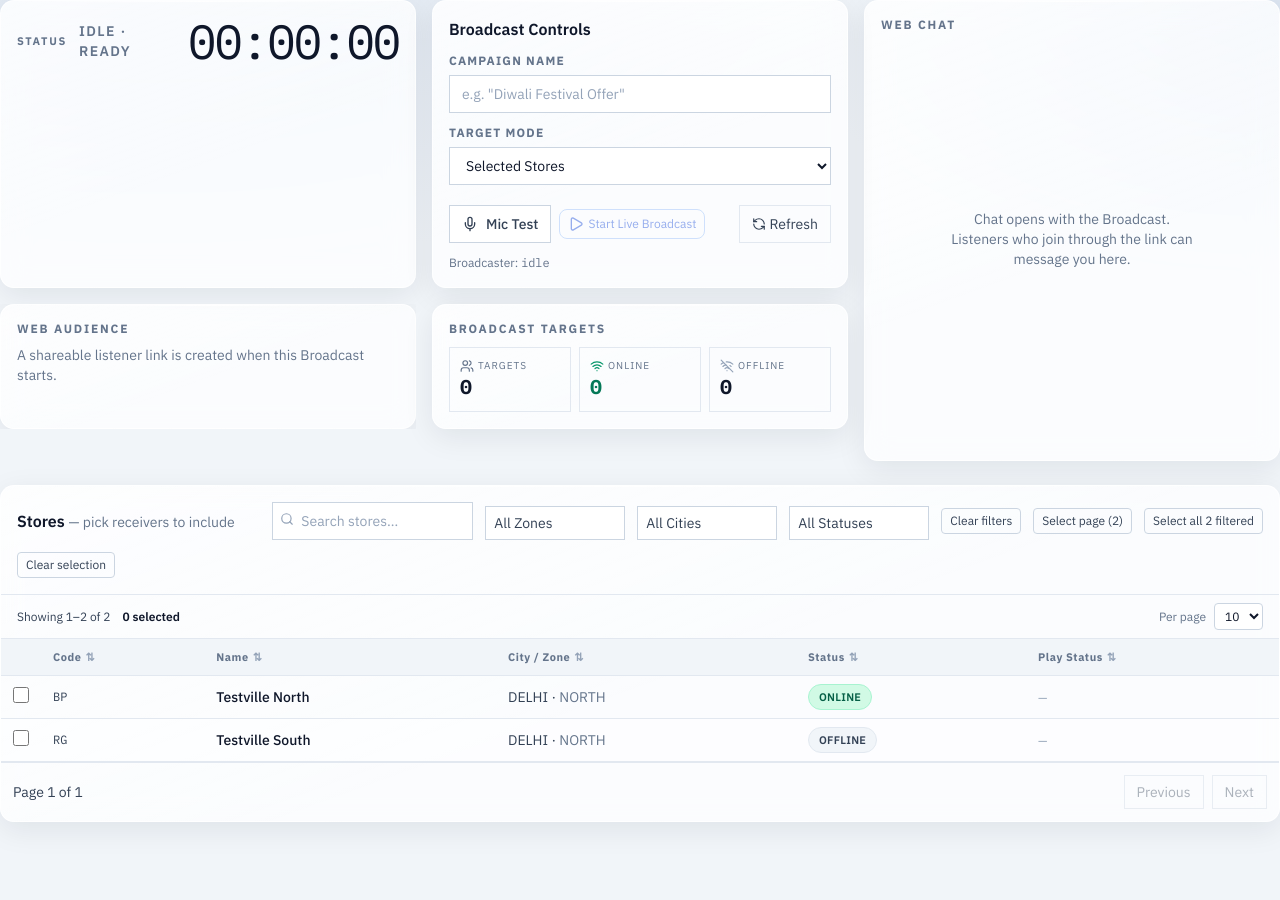
choosing Only With Link hides the Store table
Expected: the field with test id "stores-search" is shown, [272,502,473,540]
Select "Only With Link" in the dropdown with test id "target-mode-select" at (640, 166), box [449,147,831,185]
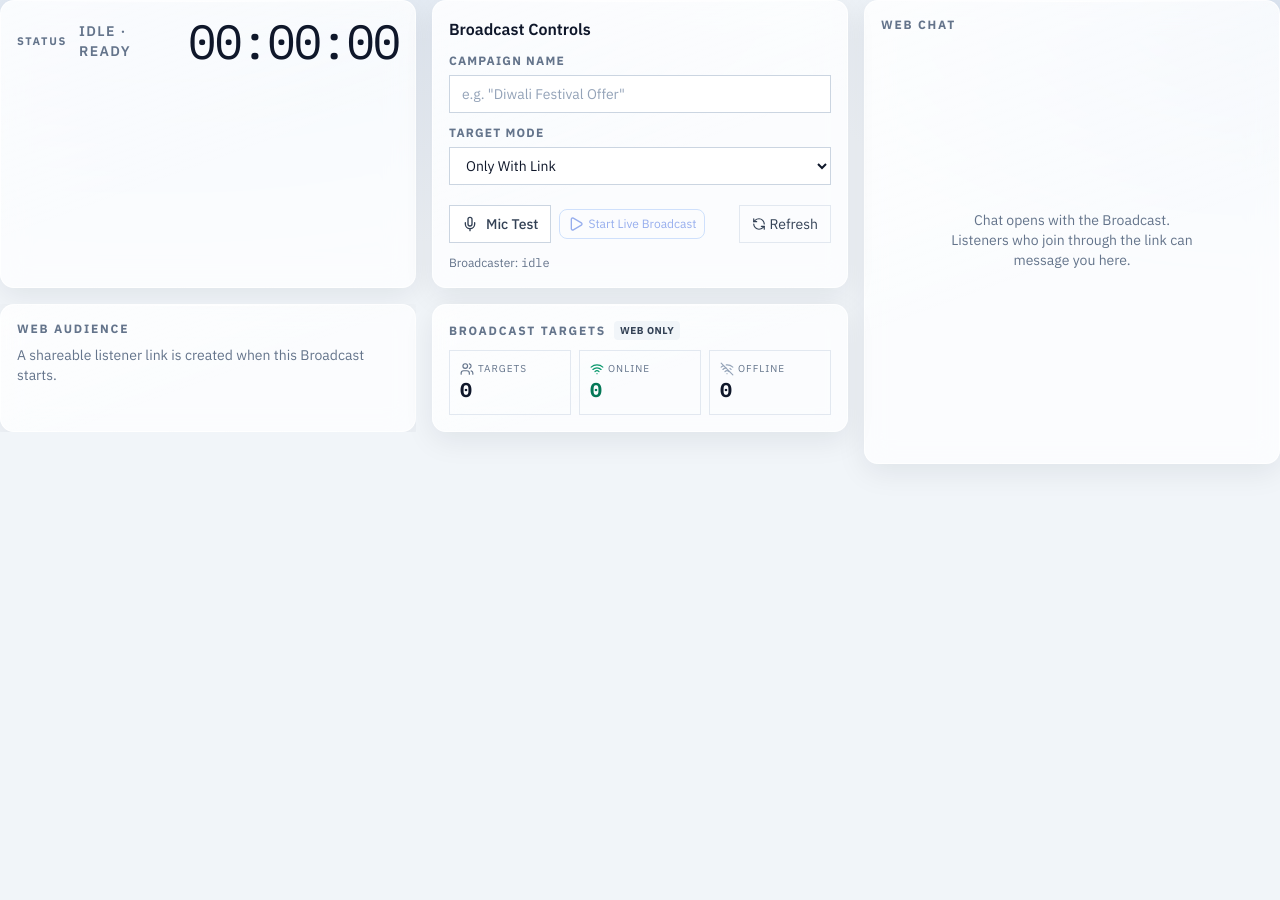
Now the field with test id "stores-search" is gone
